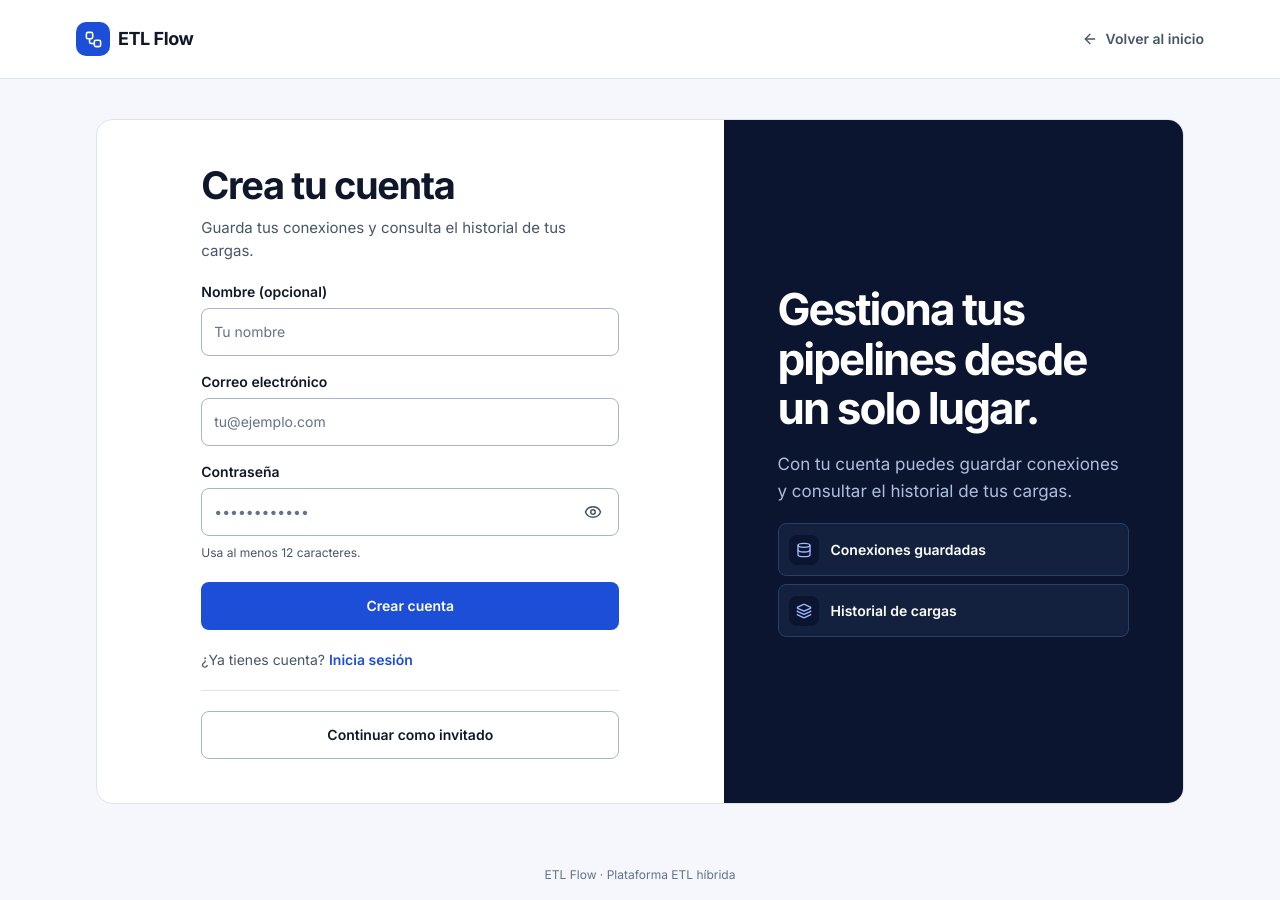
Test case: account forms › blocks a second registration while pending and handles a missing session safely
Type "person@example.com" into the field labelled "Correo electrónico".
click(410, 422); type("person@example.com")  # box [201,398,619,446]
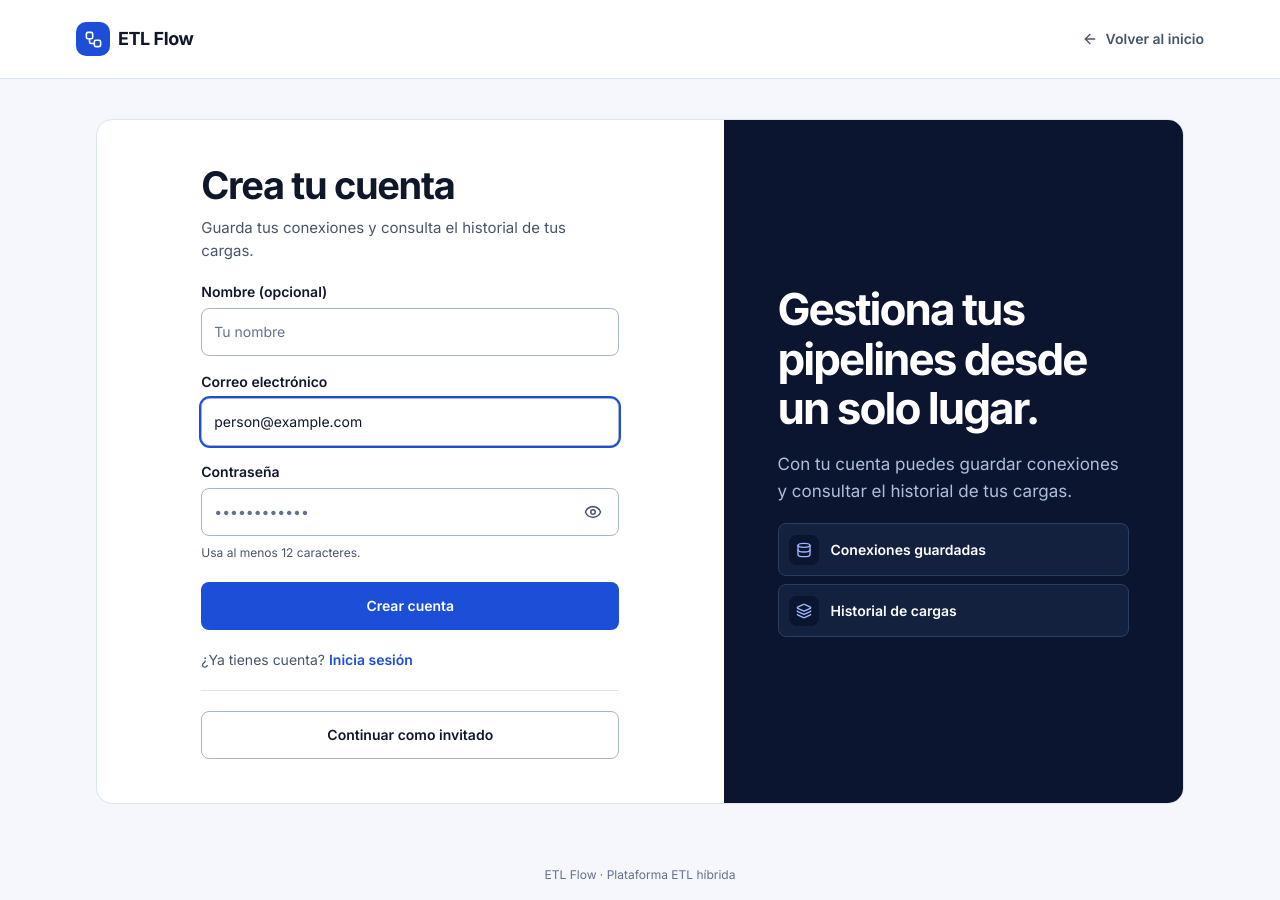
Type "synthetic-passphrase" into the password field labelled "Contraseña".
click(410, 512); type("synthetic-passphrase")  # box [201,488,619,536]
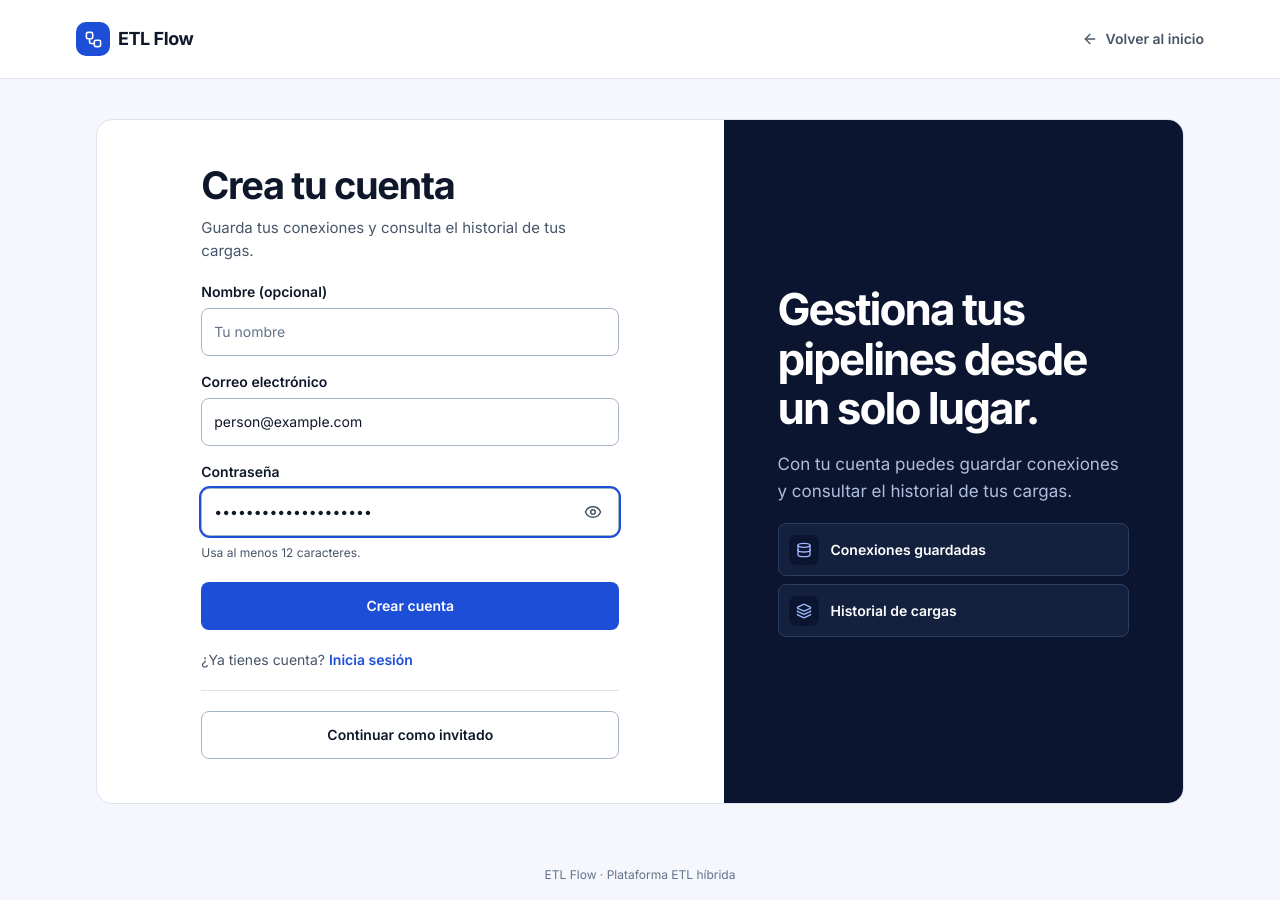
Click the button "Crear cuenta".
click(410, 606)  # box [201,582,619,630]
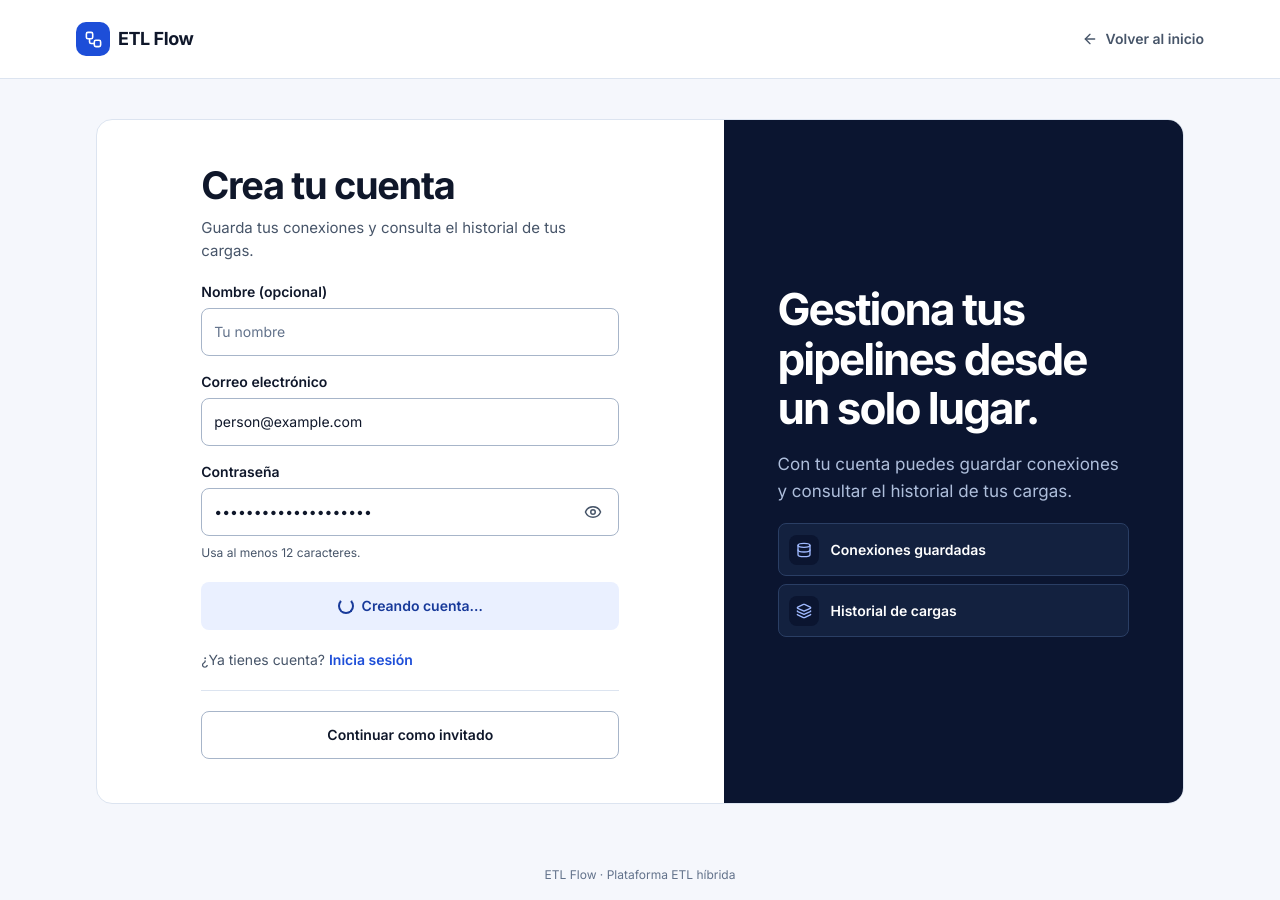
Check: the button named "Crear cuenta" is disabled, box [201,582,619,630]
Submit the form named "Crear cuenta", box [201,282,619,630]
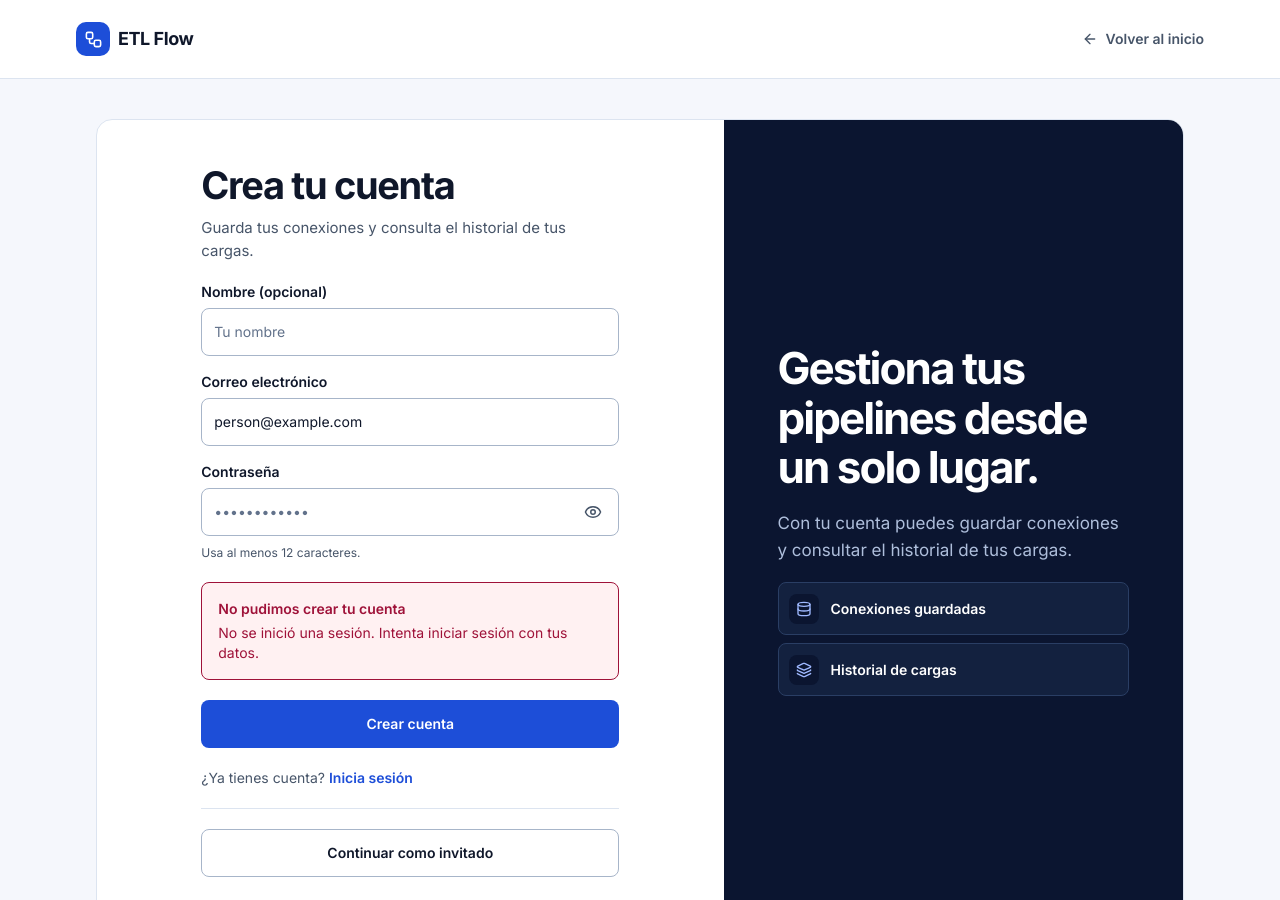
Check: the message shows "No se inició una sesión", box [218,624,567,661]
Check: the password field labelled "Contraseña" is empty, box [201,488,619,536]
